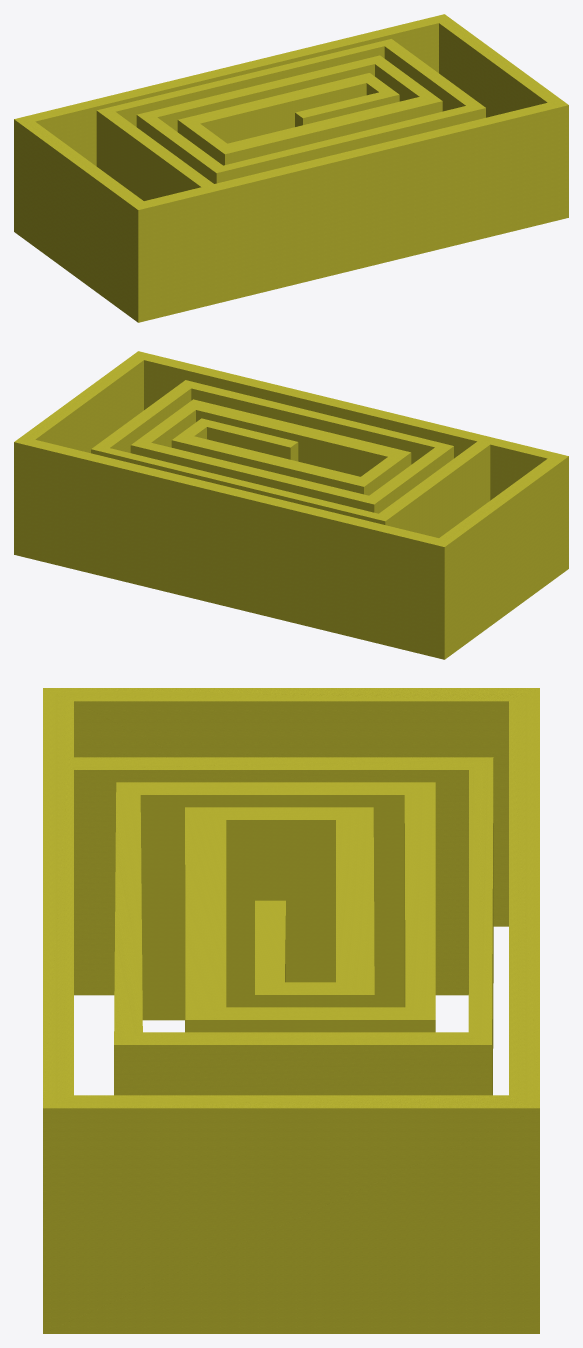
File: Level7.obj
3 renders of one model, top to bottom at view 1: azimuth 30°, elevation 25°; view 2: azimuth 150°, elevation 25°; view 3: azimuth 270°, elevation 25°, orthographic. The views are drawn at different scales.
Parts seen in each view (by area): view 1: Rectangle01, Line01; view 2: Rectangle01, Line01; view 3: Rectangle01, Line01.
Boxes of the visible parts, <box> form: Rectangle01: <box>14,14,568,322</box>; Line01: <box>96,39,485,200</box>; Rectangle01: <box>14,351,568,659</box>; Line01: <box>91,380,490,537</box>; Rectangle01: <box>43,688,539,1333</box>; Line01: <box>69,757,493,1095</box>.
Size of the model in its own units: 8 by 2 by 4.
